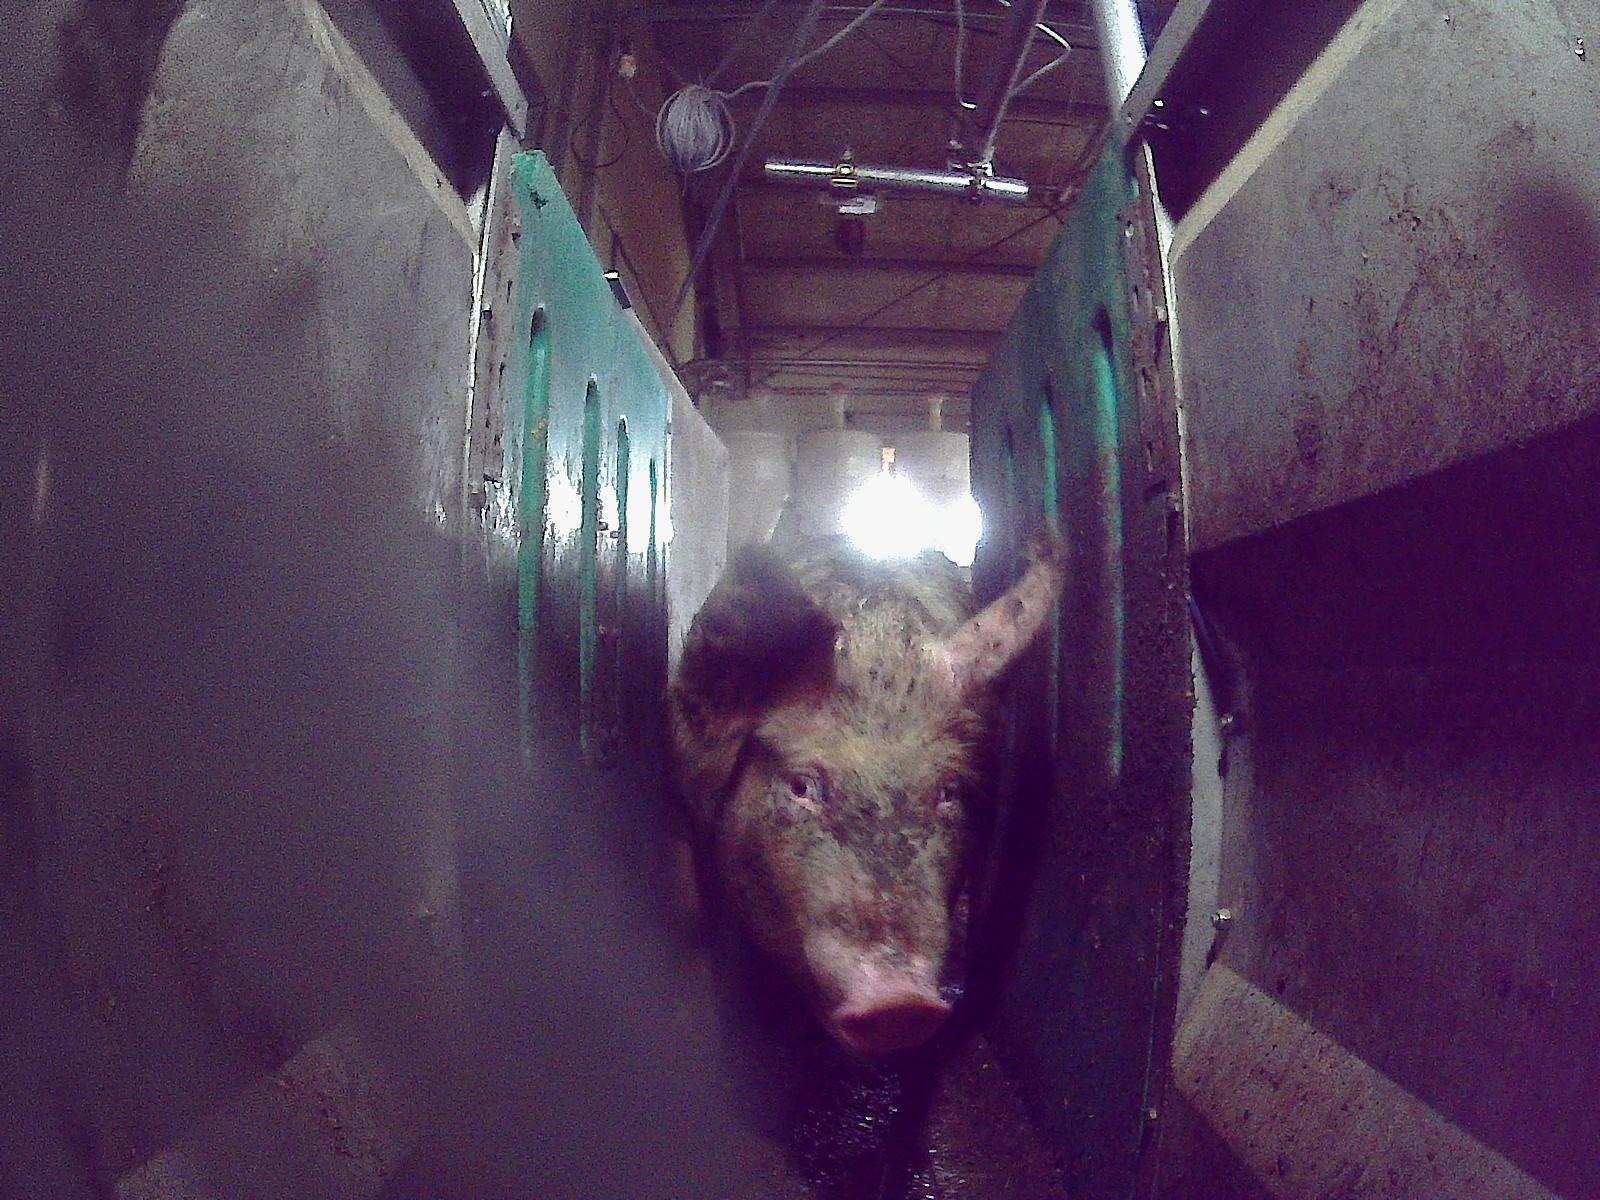Face: (731, 662, 973, 1057)
